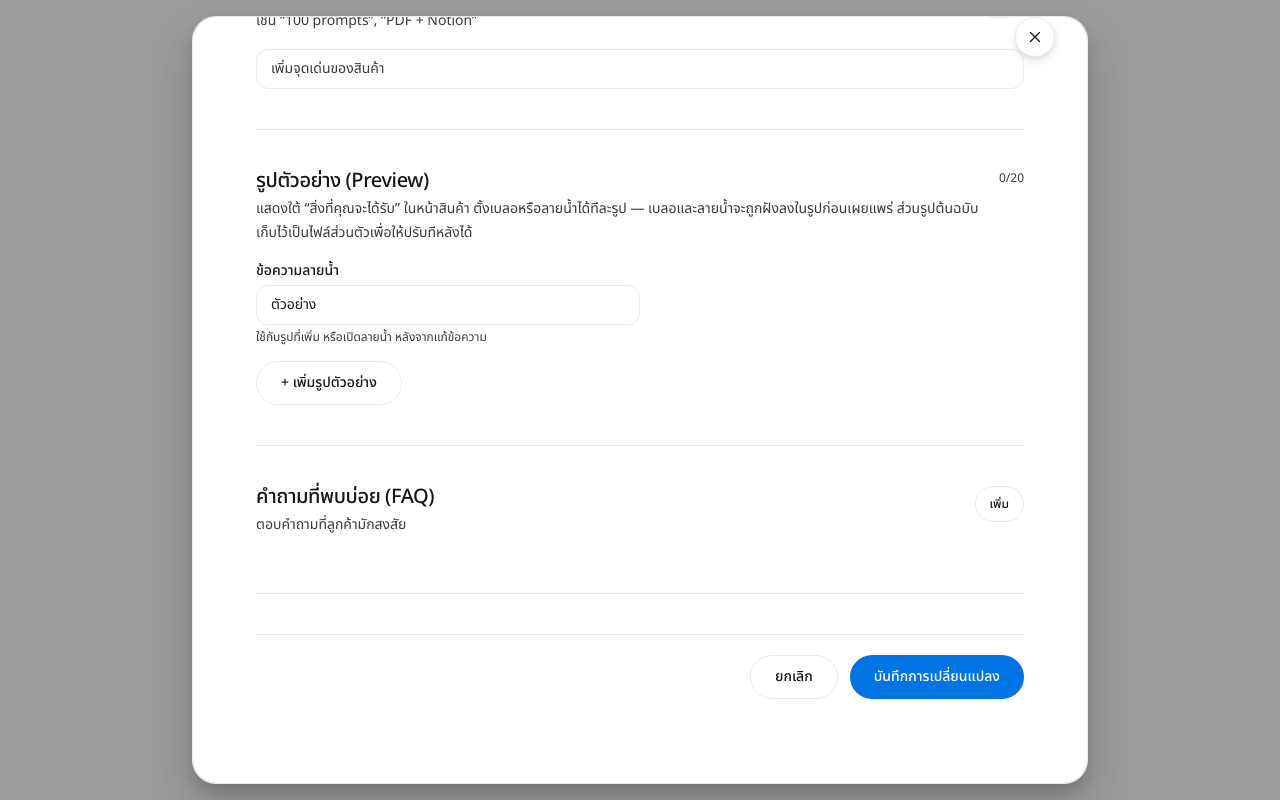
keeps a failed edit visible inside the dialog
The image size is (1280, 800).
(page scrolled)
Click the button "บันทึกการเปลี่ยนแปลง". click: (937, 676)
box: [850,654,1024,698]
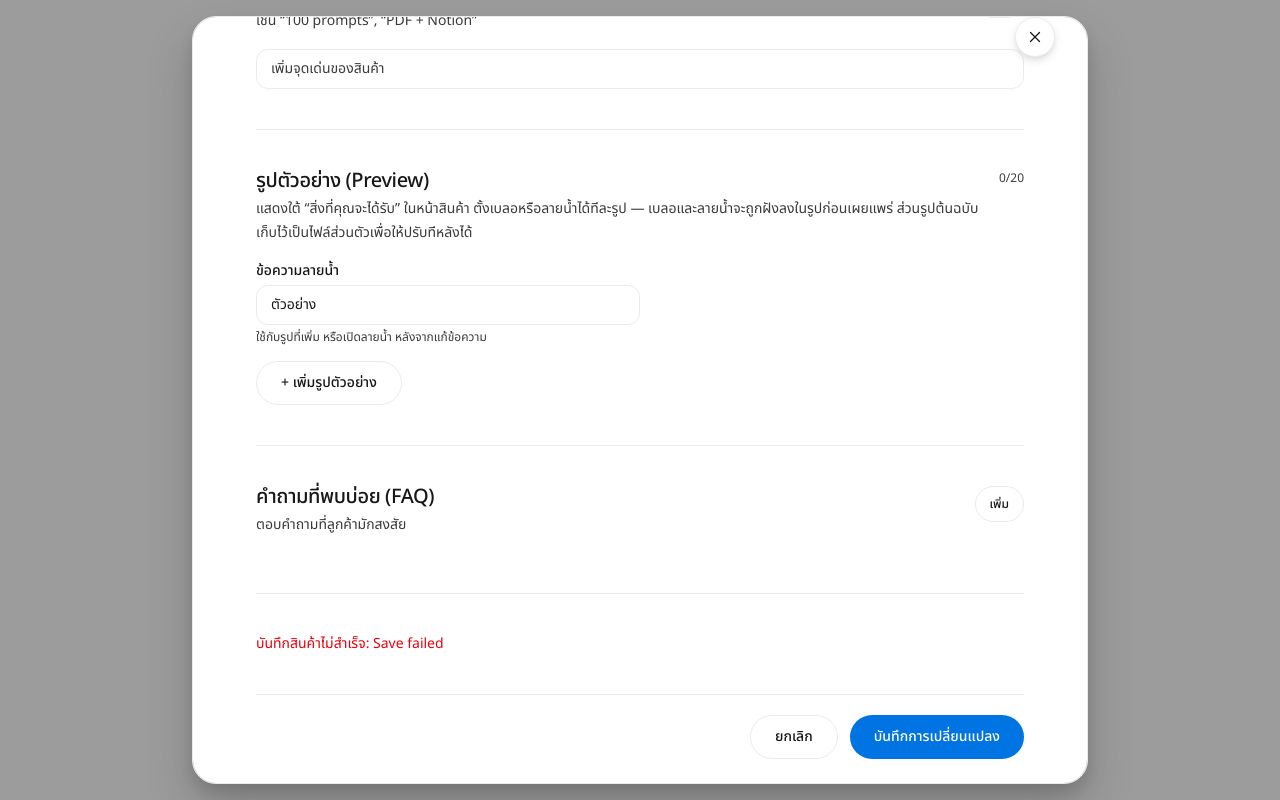
Check: the message shows "Save failed", box [256,632,444,654]
